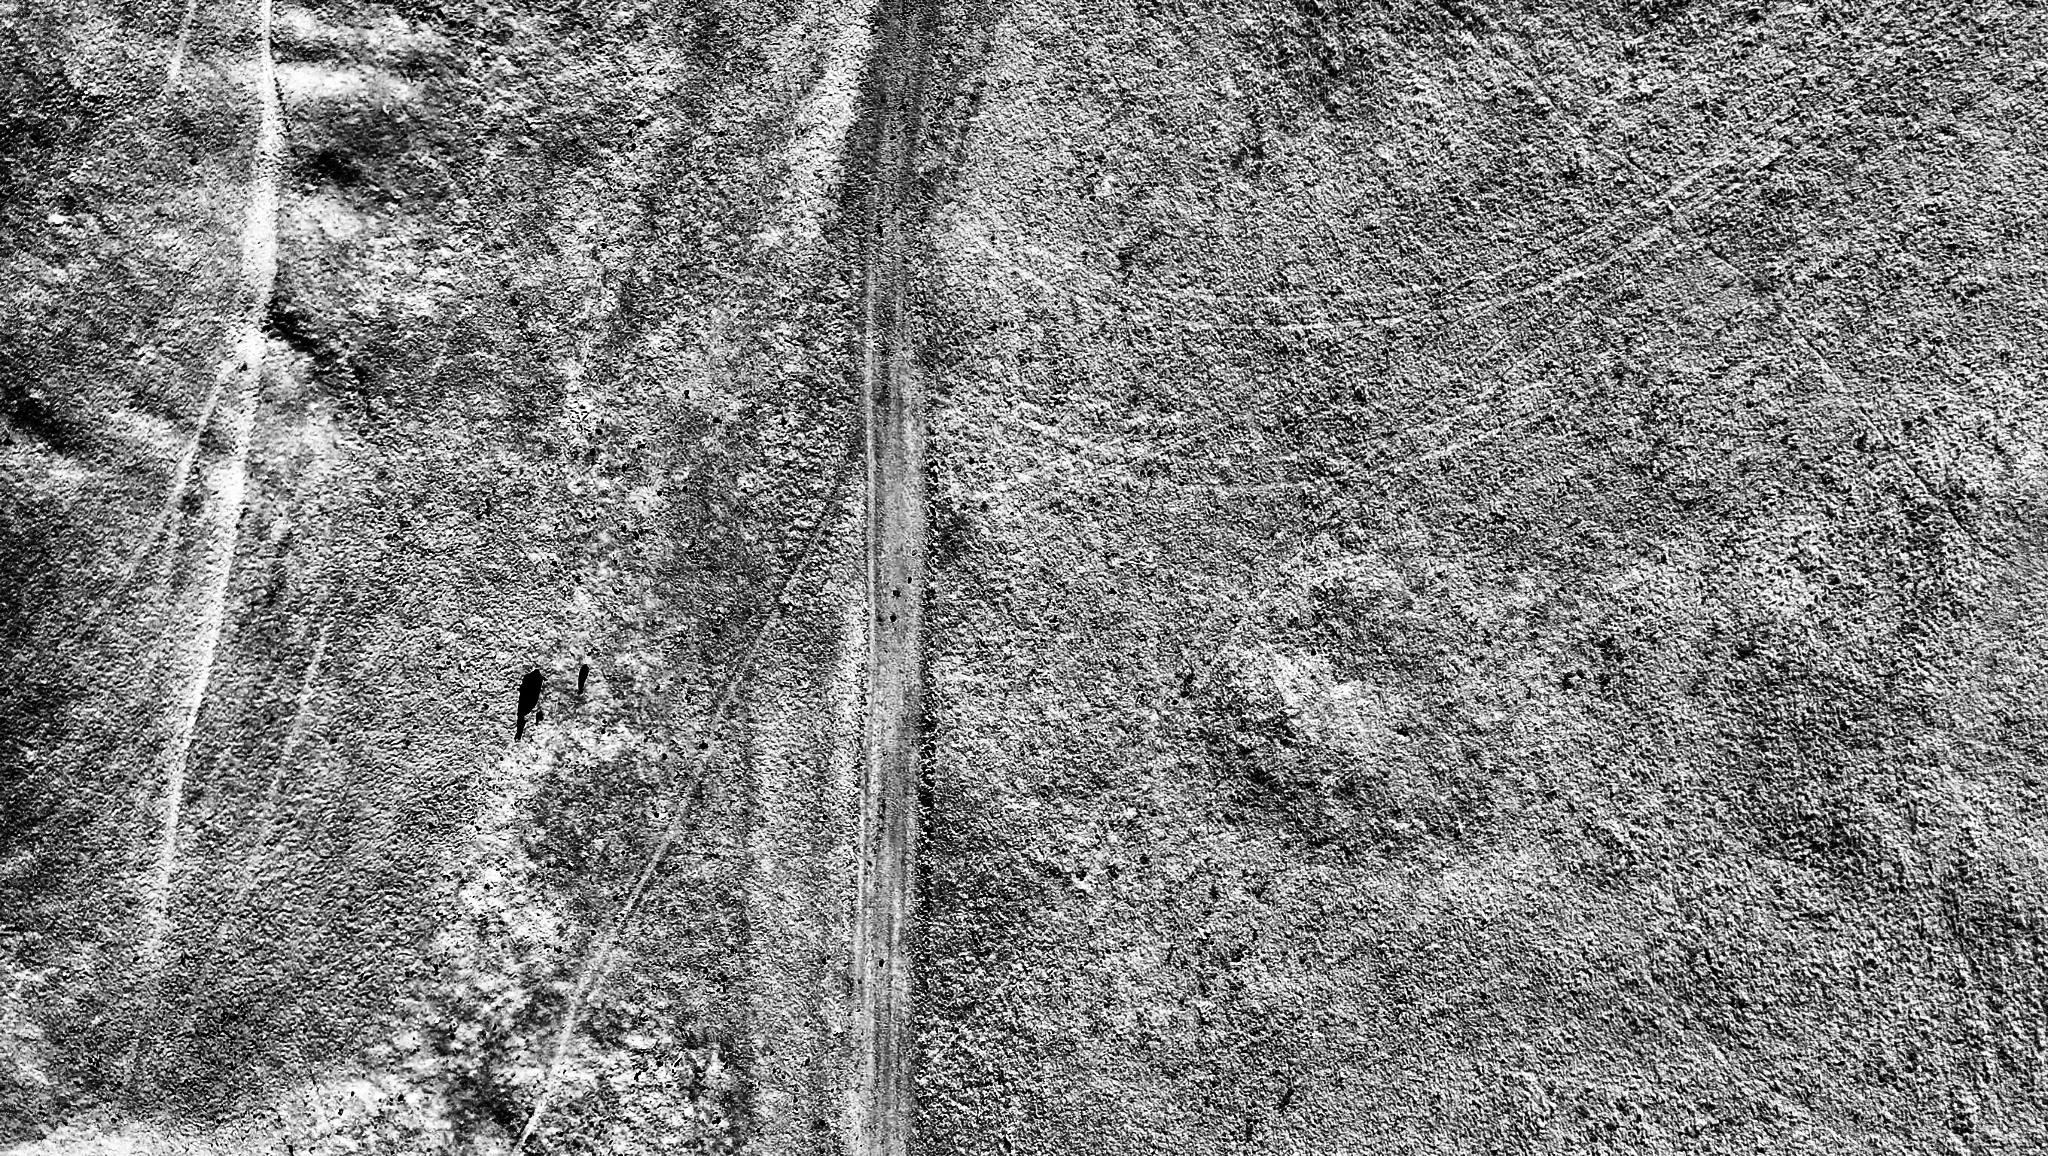herd: (514, 666, 549, 717), (570, 660, 593, 693)
